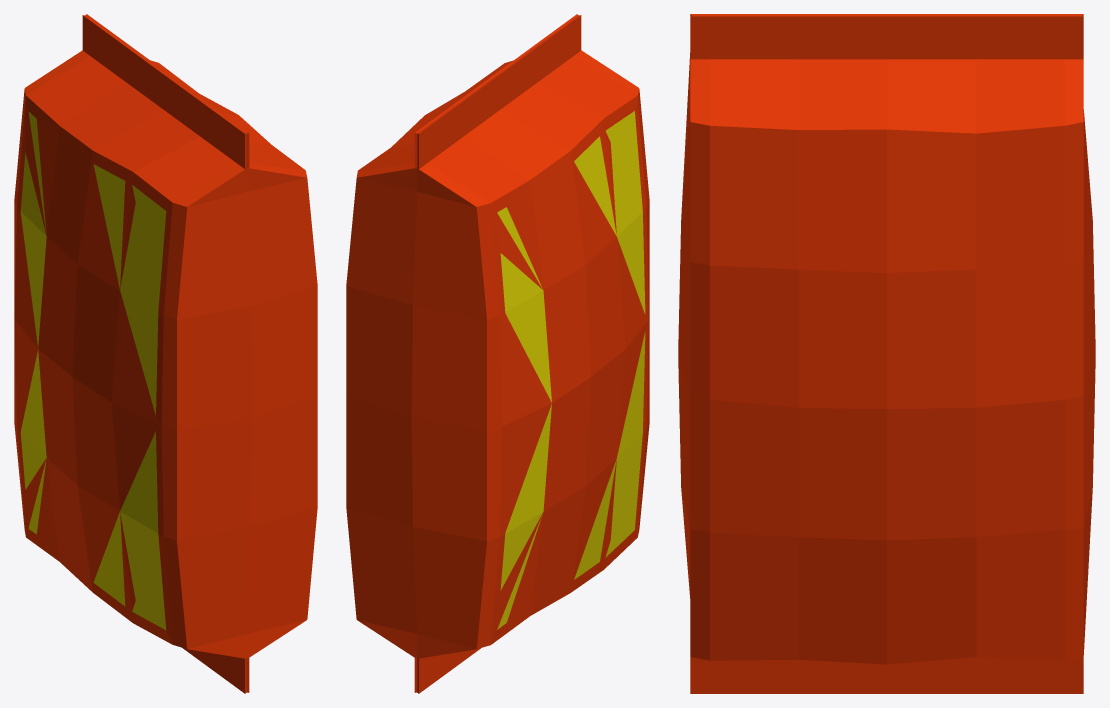
The model's file is Patatas_Low_Poly_1.fbx.
3 renders of one model, left to right at view 1: azimuth 30°, elevation 25°; view 2: azimuth 150°, elevation 25°; view 3: azimuth 270°, elevation 25°, orthographic. The views are drawn at different scales.
Visible parts, largest first — view 1: Cube, Cube.001; view 2: Cube, Cube.001; view 3: Cube.
Boxes of the visible parts, box(x1,y1,x2,y2) form: Cube: box(14, 14, 317, 693); Cube.001: box(17, 95, 172, 644); Cube: box(346, 14, 649, 693); Cube.001: box(491, 96, 648, 643); Cube: box(678, 14, 1095, 693).
Size of the model in its own units: 13.28 by 37.99 by 21.23.
